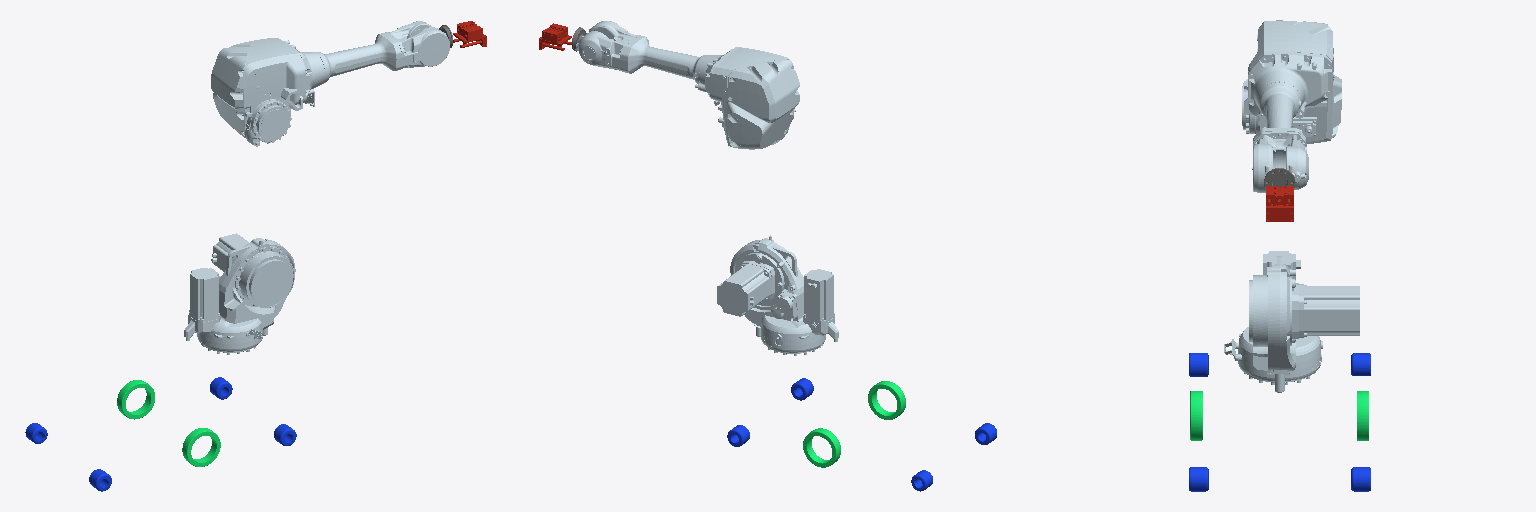
--- What the picture shows (computed from the rendered views, not written in the file) ---
Views: 3 orthographic renders of the robot side by side, from view 1: azimuth 30°, elevation 25°; view 2: azimuth 150°, elevation 25°; view 3: azimuth 270°, elevation 25°.
Robot: mirabb — 20 links, 19 joints (1 revolute, 12 continuous, 3 prismatic, 3 fixed); root link world; default pose: every joint at zero.
Links seen in each view (by area): view 1: link1_1, link3_1, link4_1, mir_left_drive_wheel_1, mir_right_drive_wheel_1, link9_1; view 2: link1_1, link3_1, link4_1, mir_left_drive_wheel_1, mir_right_drive_wheel_1, link9_1; view 3: link1_1, link3_1, link4_1, link9_1, mir_left_drive_wheel_1, mir_right_drive_wheel_1.
Boxes of the visible links, box(x1,y1,x2,y2) form: link1_1: box(184, 233, 295, 354); link3_1: box(211, 38, 324, 146); link4_1: box(316, 21, 449, 83); mir_left_drive_wheel_1: box(182, 428, 220, 466); mir_right_drive_wheel_1: box(117, 380, 154, 419); link9_1: box(453, 21, 486, 47); link1_1: box(717, 235, 838, 355); link3_1: box(695, 47, 799, 149); link4_1: box(576, 21, 707, 84); mir_left_drive_wheel_1: box(868, 381, 905, 419); mir_right_drive_wheel_1: box(803, 428, 840, 467); link9_1: box(539, 23, 571, 50); link1_1: box(1224, 251, 1359, 392); link3_1: box(1242, 20, 1341, 143); link4_1: box(1252, 82, 1308, 192); link9_1: box(1266, 186, 1293, 221); mir_left_drive_wheel_1: box(1190, 391, 1202, 440); mir_right_drive_wheel_1: box(1357, 391, 1368, 440).
Bounding box of the posed robot: 2.46 × 0.729 × 2.04 m (x, y, z).
Meshes: 19 distinct files referenced, 11 mesh visuals loaded (11 binary STL); not drawn: 8 (reference not matched to a file when rendering).

The robot description file, URDF, robot "mirabb":
<?xml version="1.0" ?>
<!-- =================================================================================== -->
<!-- |    This document was autogenerated by xacro from mirabb.xacro                   | -->
<!-- |    EDITING THIS FILE BY HAND IS NOT RECOMMENDED                                 | -->
<!-- =================================================================================== -->
<robot name="mirabb">
  <material name="silver_default">
    <color rgba="0.700 0.700 0.700 1.000"/>
  </material>
  <material name="opaque636363">
    <color rgba="0.25098039215686274 0.25098039215686274 0.25098039215686274 1.0"/>
  </material>
  <material name="opaque25500_1_1">
    <color rgba="0.14901960784313725 0.9607843137254902 0.49019607843137253 1.0"/>
  </material>
  <material name="opaque25500_1">
    <color rgba="0.14901960784313725 0.3254901960784314 0.9607843137254902 1.0"/>
  </material>
  <material name="opaque25500">
    <color rgba="1.0 0.0 0.0 1.0"/>
  </material>
  <material name="powder_coat_rough_grey">
    <color rgba="0.8235294117647058 0.8941176470588236 0.9333333333333333 1.0"/>
  </material>
  <material name="opaque215215215">
    <color rgba="0.8431372549019608 0.8431372549019608 0.8431372549019608 1.0"/>
  </material>
  <material name="opaque128128128">
    <color rgba="0.5019607843137255 0.5019607843137255 0.5019607843137255 1.0"/>
  </material>
  <material name="paint_metallic_blue">
    <color rgba="0.18823529411764706 0.23137254901960785 0.5882352941176471 1.0"/>
  </material>
  <material name="paint_metallic_silver">
    <color rgba="0.984313725490196 0.9803921568627451 0.9607843137254902 1.0"/>
  </material>
  <material name="paint_metallic_red">
    <color rgba="0.7686274509803922 0.20784313725490197 0.15294117647058825 1.0"/>
  </material>
  <material name="generic">
    <color rgba="0.3137254901960784 0.3137254901960784 0.3137254901960784 1.0"/>
  </material>
  <transmission name="joint_Base_LeftWheel_tran">
    <type>transmission_interface/SimpleTransmission</type>
    <joint name="joint_Base_LeftWheel">
      <hardwareInterface>hardware_interface/EffortJointInterface</hardwareInterface>
    </joint>
    <actuator name="joint_Base_LeftWheel_actr">
      <hardwareInterface>hardware_interface/EffortJointInterface</hardwareInterface>
      <mechanicalReduction>1</mechanicalReduction>
    </actuator>
  </transmission>
  <transmission name="joint_Base_RightWheel_tran">
    <type>transmission_interface/SimpleTransmission</type>
    <joint name="joint_Base_RightWheel">
      <hardwareInterface>hardware_interface/EffortJointInterface</hardwareInterface>
    </joint>
    <actuator name="joint_Base_RightWheel_actr">
      <hardwareInterface>hardware_interface/EffortJointInterface</hardwareInterface>
      <mechanicalReduction>1</mechanicalReduction>
    </actuator>
  </transmission>
  <transmission name="joint_Base_rear_right_caster_tran">
    <type>transmission_interface/SimpleTransmission</type>
    <joint name="joint_Base_rear_right_caster">
      <hardwareInterface>hardware_interface/EffortJointInterface</hardwareInterface>
    </joint>
    <actuator name="joint_Base_rear_right_caster_actr">
      <hardwareInterface>hardware_interface/EffortJointInterface</hardwareInterface>
      <mechanicalReduction>1</mechanicalReduction>
    </actuator>
  </transmission>
  <transmission name="joint_Base_rear_left_caster_tran">
    <type>transmission_interface/SimpleTransmission</type>
    <joint name="joint_Base_rear_left_caster">
      <hardwareInterface>hardware_interface/EffortJointInterface</hardwareInterface>
    </joint>
    <actuator name="joint_Base_rear_left_caster_actr">
      <hardwareInterface>hardware_interface/EffortJointInterface</hardwareInterface>
      <mechanicalReduction>1</mechanicalReduction>
    </actuator>
  </transmission>
  <transmission name="joint_Base_front_right_caster_tran">
    <type>transmission_interface/SimpleTransmission</type>
    <joint name="joint_Base_front_right_caster">
      <hardwareInterface>hardware_interface/EffortJointInterface</hardwareInterface>
    </joint>
    <actuator name="joint_Base_front_right_caster_actr">
      <hardwareInterface>hardware_interface/EffortJointInterface</hardwareInterface>
      <mechanicalReduction>1</mechanicalReduction>
    </actuator>
  </transmission>
  <transmission name="joint_Base_front_left_caster_tran">
    <type>transmission_interface/SimpleTransmission</type>
    <joint name="joint_Base_front_left_caster">
      <hardwareInterface>hardware_interface/EffortJointInterface</hardwareInterface>
    </joint>
    <actuator name="joint_Base_front_left_caster_actr">
      <hardwareInterface>hardware_interface/EffortJointInterface</hardwareInterface>
      <mechanicalReduction>1</mechanicalReduction>
    </actuator>
  </transmission>
  <transmission name="joint1_tran">
    <type>transmission_interface/SimpleTransmission</type>
    <joint name="joint1">
      <!-- <hardwareInterface>hardware_interface/EffortJointInterface</hardwareInterface> -->
      <hardwareInterface>hardware_interface/PositionJointInterface</hardwareInterface>
    </joint>
    <actuator name="joint1_actr">
      <!-- <hardwareInterface>hardware_interface/EffortJointInterface</hardwareInterface> -->
      <hardwareInterface>hardware_interface/PositionJointInterface</hardwareInterface>
      <mechanicalReduction>1</mechanicalReduction>
    </actuator>
  </transmission>
  <transmission name="joint2_tran">
    <type>transmission_interface/SimpleTransmission</type>
    <joint name="joint2">
      <!-- <hardwareInterface>hardware_interface/EffortJointInterface</hardwareInterface> -->
      <hardwareInterface>hardware_interface/PositionJointInterface</hardwareInterface>
    </joint>
    <actuator name="joint2_actr">
      <!-- <hardwareInterface>hardware_interface/EffortJointInterface</hardwareInterface> -->
      <hardwareInterface>hardware_interface/PositionJointInterface</hardwareInterface>
      <mechanicalReduction>1</mechanicalReduction>
    </actuator>
  </transmission>
  <transmission name="joint3_tran">
    <type>transmission_interface/SimpleTransmission</type>
    <joint name="joint3">
      <!-- <hardwareInterface>hardware_interface/EffortJointInterface</hardwareInterface> -->
      <hardwareInterface>hardware_interface/PositionJointInterface</hardwareInterface>
    </joint>
    <actuator name="joint3_actr">
      <!-- <hardwareInterface>hardware_interface/EffortJointInterface</hardwareInterface> -->
      <hardwareInterface>hardware_interface/PositionJointInterface</hardwareInterface>
      <mechanicalReduction>1</mechanicalReduction>
    </actuator>
  </transmission>
  <transmission name="joint4_tran">
    <type>transmission_interface/SimpleTransmission</type>
    <joint name="joint4">
      <!-- <hardwareInterface>hardware_interface/EffortJointInterface</hardwareInterface> -->
      <hardwareInterface>hardware_interface/PositionJointInterface</hardwareInterface>
    </joint>
    <actuator name="joint4_actr">
      <!-- <hardwareInterface>hardware_interface/EffortJointInterface</hardwareInterface> -->
      <hardwareInterface>hardware_interface/PositionJointInterface</hardwareInterface>
      <mechanicalReduction>1</mechanicalReduction>
    </actuator>
  </transmission>
  <transmission name="joint5_tran">
    <type>transmission_interface/SimpleTransmission</type>
    <joint name="joint5">
      <!-- <hardwareInterface>hardware_interface/EffortJointInterface</hardwareInterface> -->
      <hardwareInterface>hardware_interface/PositionJointInterface</hardwareInterface>
    </joint>
    <actuator name="joint5_actr">
      <!-- <hardwareInterface>hardware_interface/EffortJointInterface</hardwareInterface> -->
      <hardwareInterface>hardware_interface/PositionJointInterface</hardwareInterface>
      <mechanicalReduction>1</mechanicalReduction>
    </actuator>
  </transmission>
  <transmission name="joint6_tran">
    <type>transmission_interface/SimpleTransmission</type>
    <joint name="joint6">
      <!-- <hardwareInterface>hardware_interface/EffortJointInterface</hardwareInterface> -->
      <hardwareInterface>hardware_interface/PositionJointInterface</hardwareInterface>
    </joint>
    <actuator name="joint6_actr">
      <!-- <hardwareInterface>hardware_interface/EffortJointInterface</hardwareInterface> -->
      <hardwareInterface>hardware_interface/PositionJointInterface</hardwareInterface>
      <mechanicalReduction>1</mechanicalReduction>
    </actuator>
  </transmission>
  <transmission name="joint8_tran">
    <type>transmission_interface/SimpleTransmission</type>
    <joint name="joint8">
      <!-- <hardwareInterface>hardware_interface/EffortJointInterface</hardwareInterface> -->
      <hardwareInterface>hardware_interface/PositionJointInterface</hardwareInterface>
    </joint>
    <actuator name="joint8_actr">
      <!-- <hardwareInterface>hardware_interface/EffortJointInterface</hardwareInterface> -->
      <hardwareInterface>hardware_interface/PositionJointInterface</hardwareInterface>
      <mechanicalReduction>1</mechanicalReduction>
    </actuator>
  </transmission>
  <transmission name="joint9_tran">
    <type>transmission_interface/SimpleTransmission</type>
    <joint name="joint9">
      <!-- <hardwareInterface>hardware_interface/EffortJointInterface</hardwareInterface> -->
      <hardwareInterface>hardware_interface/PositionJointInterface</hardwareInterface>
    </joint>
    <actuator name="joint9_actr">
      <!-- <hardwareInterface>hardware_interface/EffortJointInterface</hardwareInterface> -->
      <hardwareInterface>hardware_interface/PositionJointInterface</hardwareInterface>
      <mechanicalReduction>1</mechanicalReduction>
    </actuator>
  </transmission>
  <transmission name="joint10_tran">
    <type>transmission_interface/SimpleTransmission</type>
    <joint name="joint10">
      <!-- <hardwareInterface>hardware_interface/EffortJointInterface</hardwareInterface> -->
      <hardwareInterface>hardware_interface/PositionJointInterface</hardwareInterface>
    </joint>
    <actuator name="joint10_actr">
      <!-- <hardwareInterface>hardware_interface/EffortJointInterface</hardwareInterface> -->
      <hardwareInterface>hardware_interface/PositionJointInterface</hardwareInterface>
      <mechanicalReduction>1</mechanicalReduction>
    </actuator>
  </transmission>
  <transmission name="joint11_tran">
    <type>transmission_interface/SimpleTransmission</type>
    <joint name="joint11">
      <!-- <hardwareInterface>hardware_interface/EffortJointInterface</hardwareInterface> -->
      <hardwareInterface>hardware_interface/PositionJointInterface</hardwareInterface>
    </joint>
    <actuator name="joint11_actr">
      <!-- <hardwareInterface>hardware_interface/EffortJointInterface</hardwareInterface> -->
      <hardwareInterface>hardware_interface/PositionJointInterface</hardwareInterface>
      <mechanicalReduction>1</mechanicalReduction>
    </actuator>
  </transmission>
  <!-- <gazebo>
  <plugin name="control" filename="libgazebo_ros_control.so"/>
</gazebo> -->
  <gazebo>
    <plugin filename="libgazebo_ros_control.so" name="gazebo_ros_control">
      <robotNamespace>/mirabb</robotNamespace>
      <robotSimType>gazebo_ros_control/DefaultRobotHWSim</robotSimType>
    </plugin>
  </gazebo>
  <gazebo reference="base_link">
    <material>Gazebo/Silver</material>
    <mu1>0.2</mu1>
    <mu2>0.2</mu2>
    <selfCollide>true</selfCollide>
    <gravity>true</gravity>
  </gazebo>
  <gazebo reference="mir_left_drive_wheel_1">
    <material>Gazebo/Silver</material>
    <mu1>0.2</mu1>
    <mu2>0.2</mu2>
    <selfCollide>true</selfCollide>
  </gazebo>
  <gazebo reference="mir_right_drive_wheel_1">
    <material>Gazebo/Silver</material>
    <mu1>0.2</mu1>
    <mu2>0.2</mu2>
    <selfCollide>true</selfCollide>
  </gazebo>
  <gazebo reference="mir_rear_right_caster_1">
    <material>Gazebo/Silver</material>
    <mu1>0.2</mu1>
    <mu2>0.2</mu2>
    <selfCollide>true</selfCollide>
  </gazebo>
  <gazebo reference="mir_rear_left_caster_1">
    <material>Gazebo/Silver</material>
    <mu1>0.2</mu1>
    <mu2>0.2</mu2>
    <selfCollide>true</selfCollide>
  </gazebo>
  <gazebo reference="mir_front_right_caster_1">
    <material>Gazebo/Silver</material>
    <mu1>0.2</mu1>
    <mu2>0.2</mu2>
    <selfCollide>true</selfCollide>
  </gazebo>
  <gazebo reference="mir_front_left_caster_1">
    <material>Gazebo/Silver</material>
    <mu1>0.2</mu1>
    <mu2>0.2</mu2>
    <selfCollide>true</selfCollide>
  </gazebo>
  <gazebo reference="link0_1">
    <material>Gazebo/Silver</material>
    <mu1>0.2</mu1>
    <mu2>0.2</mu2>
    <selfCollide>true</selfCollide>
  </gazebo>
  <gazebo reference="link1_1">
    <material>Gazebo/Silver</material>
    <mu1>0.2</mu1>
    <mu2>0.2</mu2>
    <selfCollide>true</selfCollide>
  </gazebo>
  <gazebo reference="link2_1">
    <material>Gazebo/Silver</material>
    <mu1>0.2</mu1>
    <mu2>0.2</mu2>
    <selfCollide>true</selfCollide>
  </gazebo>
  <gazebo reference="link3_1">
    <material>Gazebo/Silver</material>
    <mu1>0.2</mu1>
    <mu2>0.2</mu2>
    <selfCollide>true</selfCollide>
  </gazebo>
  <gazebo reference="link4_1">
    <material>Gazebo/Silver</material>
    <mu1>0.2</mu1>
    <mu2>0.2</mu2>
    <selfCollide>true</selfCollide>
  </gazebo>
  <gazebo reference="link5_1">
    <material>Gazebo/Silver</material>
    <mu1>0.2</mu1>
    <mu2>0.2</mu2>
    <selfCollide>true</selfCollide>
  </gazebo>
  <gazebo reference="link6_1">
    <material>Gazebo/Silver</material>
    <mu1>0.2</mu1>
    <mu2>0.2</mu2>
    <selfCollide>true</selfCollide>
  </gazebo>
  <gazebo reference="link7_1">
    <material>Gazebo/Silver</material>
    <mu1>0.2</mu1>
    <mu2>0.2</mu2>
    <selfCollide>true</selfCollide>
  </gazebo>
  <gazebo reference="link11_1">
    <material>Gazebo/Silver</material>
    <mu1>0.2</mu1>
    <mu2>0.2</mu2>
    <selfCollide>true</selfCollide>
  </gazebo>
  <gazebo reference="link10_1">
    <material>Gazebo/Silver</material>
    <mu1>0.2</mu1>
    <mu2>0.2</mu2>
    <selfCollide>true</selfCollide>
  </gazebo>
  <gazebo reference="link9_1">
    <material>Gazebo/Silver</material>
    <mu1>0.2</mu1>
    <mu2>0.2</mu2>
    <selfCollide>true</selfCollide>
  </gazebo>
  <gazebo reference="link8_1">
    <material>Gazebo/Silver</material>
    <mu1>0.2</mu1>
    <mu2>0.2</mu2>
    <selfCollide>true</selfCollide>
  </gazebo>
  <link name="base_link">
    <inertial>
      <origin rpy="0 0 0" xyz="-0.14772812309663302 -0.023206697854912604 0.4203334227386186"/>
      <mass value="1000"/>
      <inertia ixx="199.757361" ixy="11.317127" ixz="56.773936" iyy="263.585665" iyz="-1.492251" izz="251.283031"/>
    </inertial>
    <visual>
      <origin rpy="0 0 0" xyz="0 0 0"/>
      <geometry>
        <mesh filename="package://mirabb_description/meshes/base_link.stl" scale="0.001 0.001 0.001"/>
      </geometry>
      <material name="opaque636363"/>
    </visual>
    <collision>
      <origin rpy="0 0 0" xyz="0 0 0"/>
      <geometry>
        <mesh filename="package://mirabb_description/meshes/base_link.stl" scale="0.001 0.001 0.001"/>
      </geometry>
    </collision>
  </link>
  <link name="world"/>
  <joint name="fixed" type="fixed">
    <parent link="world"/>
    <child link="base_link"/>
  </joint>
  <link name="mir_left_drive_wheel_1">
    <inertial>
      <origin rpy="0 0 0" xyz="2.1315413548247345e-07 1.7219884374530814e-06 -6.709368598589727e-06"/>
      <mass value="5.294052840904085"/>
      <inertia ixx="0.021658" ixy="0.0" ixz="-0.0" iyy="0.041149" iyz="1e-06" izz="0.021656"/>
    </inertial>
    <visual>
      <origin rpy="0 0 0" xyz="0.000842 0.331703 -0.102346"/>
      <geometry>
        <mesh filename="package://mirabb_description/meshes/mir_left_drive_wheel_1.stl" scale="0.001 0.001 0.001"/>
      </geometry>
      <material name="opaque25500_1_1"/>
    </visual>
    <collision>
      <origin rpy="0 0 0" xyz="0.000842 0.331703 -0.102346"/>
      <geometry>
        <mesh filename="package://mirabb_description/meshes/mir_left_drive_wheel_1.stl" scale="0.001 0.001 0.001"/>
      </geometry>
    </collision>
  </link>
  <link name="mir_right_drive_wheel_1">
    <inertial>
      <origin rpy="0 0 0" xyz="7.484477992811224e-07 -2.2718773015073523e-06 -6.709368683271988e-06"/>
      <mass value="5.294052840904829"/>
      <inertia ixx="0.021658" ixy="0.0" ixz="0.0" iyy="0.041149" iyz="-1e-06" izz="0.021656"/>
    </inertial>
    <visual>
      <origin rpy="0 0 0" xyz="0.000842 -0.330477 -0.102346"/>
      <geometry>
        <mesh filename="package://mirabb_description/meshes/mir_right_drive_wheel_1.stl" scale="0.001 0.001 0.001"/>
      </geometry>
      <material name="opaque25500_1_1"/>
    </visual>
    <collision>
      <origin rpy="0 0 0" xyz="0.000842 -0.330477 -0.102346"/>
      <geometry>
        <mesh filename="package://mirabb_description/meshes/mir_right_drive_wheel_1.stl" scale="0.001 0.001 0.001"/>
      </geometry>
    </collision>
  </link>
  <link name="mir_rear_right_caster_1">
    <inertial>
      <origin rpy="0 0 0" xyz="4.808006703882484e-07 -2.749445809913098e-07 -2.1737521140735572e-07"/>
      <mass value="2.8340302939762845"/>
      <inertia ixx="0.00334" ixy="-0.0" ixz="-0.0" iyy="0.003822" iyz="-0.0" izz="0.00334"/>
    </inertial>
    <visual>
      <origin rpy="0 0 0" xyz="0.587342 -0.324887 -0.052346"/>
      <geometry>
        <mesh filename="package://mirabb_description/meshes/mir_rear_right_caster_1.stl" scale="0.001 0.001 0.001"/>
      </geometry>
      <material name="opaque25500_1"/>
    </visual>
    <collision>
      <origin rpy="0 0 0" xyz="0.587342 -0.324887 -0.052346"/>
      <geometry>
        <mesh filename="package://mirabb_description/meshes/mir_rear_right_caster_1.stl" scale="0.001 0.001 0.001"/>
      </geometry>
    </collision>
  </link>
  <link name="mir_rear_left_caster_1">
    <inertial>
      <origin rpy="0 0 0" xyz="4.808008184919998e-07 -2.749445659477878e-07 -2.1737514686176462e-07"/>
      <mass value="3.2863508269475776"/>
      <inertia ixx="0.00407" ixy="-0.0" ixz="0.0" iyy="0.004808" iyz="-0.0" izz="0.00407"/>
    </inertial>
    <visual>
      <origin rpy="0 0 0" xyz="0.587342 0.324113 -0.052346"/>
      <geometry>
        <mesh filename="package://mirabb_description/meshes/mir_rear_left_caster_1.stl" scale="0.001 0.001 0.001"/>
      </geometry>
      <material name="opaque25500_1"/>
    </visual>
    <collision>
      <origin rpy="0 0 0" xyz="0.587342 0.324113 -0.052346"/>
      <geometry>
        <mesh filename="package://mirabb_description/meshes/mir_rear_left_caster_1.stl" scale="0.001 0.001 0.001"/>
      </geometry>
    </collision>
  </link>
  <link name="mir_front_right_caster_1">
    <inertial>
      <origin rpy="0 0 0" xyz="-4.941080842812973e-07 -2.749443341332203e-07 -4.5438580856260735e-07"/>
      <mass value="3.286350826947556"/>
      <inertia ixx="0.00407" ixy="-0.0" ixz="-0.0" iyy="0.004808" iyz="-0.0" izz="0.00407"/>
    </inertial>
    <visual>
      <origin rpy="0 0 0" xyz="-0.492668 -0.324887 -0.052365"/>
      <geometry>
        <mesh filename="package://mirabb_description/meshes/mir_front_right_caster_1.stl" scale="0.001 0.001 0.001"/>
      </geometry>
      <material name="opaque25500_1"/>
    </visual>
    <collision>
      <origin rpy="0 0 0" xyz="-0.492668 -0.324887 -0.052365"/>
      <geometry>
        <mesh filename="package://mirabb_description/meshes/mir_front_right_caster_1.stl" scale="0.001 0.001 0.001"/>
      </geometry>
    </collision>
  </link>
  <link name="mir_front_left_caster_1">
    <inertial>
      <origin rpy="0 0 0" xyz="-4.941078886600003e-07 -2.7494431548147347e-07 -4.543858788466637e-07"/>
      <mass value="3.2863508269475816"/>
      <inertia ixx="0.00407" ixy="0.0" ixz="-0.0" iyy="0.004808" iyz="-0.0" izz="0.00407"/>
    </inertial>
    <visual>
      <origin rpy="0 0 0" xyz="-0.492668 0.324113 -0.052365"/>
      <geometry>
        <mesh filename="package://mirabb_description/meshes/mir_front_left_caster_1.stl" scale="0.001 0.001 0.001"/>
      </geometry>
      <material name="opaque25500_1"/>
    </visual>
    <collision>
      <origin rpy="0 0 0" xyz="-0.492668 0.324113 -0.052365"/>
      <geometry>
        <mesh filename="package://mirabb_description/meshes/mir_front_left_caster_1.stl" scale="0.001 0.001 0.001"/>
      </geometry>
    </collision>
  </link>
  <link name="link0_1">
    <inertial>
      <origin rpy="0 0 0" xyz="-0.09119346561175606 0.0003630237210969841 0.07246431742776649"/>
      <mass value="2.37"/>
      <inertia ixx="3.322456" ixy="0.030784" ixz="0.455197" iyy="6.746895" iyz="0.001141" izz="9.112071"/>
    </inertial>
    <visual>
      <origin rpy="0 0 0" xyz="-0.357783 0.000662 -0.322346"/>
      <geometry>
        <mesh filename="package://mirabb_description/meshes/link0_1.stl" scale="0.001 0.001 0.001"/>
      </geometry>
      <material name="powder_coat_rough_grey"/>
    </visual>
    <collision>
      <origin rpy="0 0 0" xyz="-0.357783 0.000662 -0.322346"/>
      <geometry>
        <mesh filename="package://mirabb_description/meshes/link0_1.stl" scale="0.001 0.001 0.001"/>
      </geometry>
    </collision>
  </link>
  <link name="link1_1">
    <inertial>
      <origin rpy="0 0 0" xyz="0.0770381921903589 0.02468988684405638 0.24069822644139682"/>
      <mass value="3.32"/>
      <inertia ixx="8.732818" ixy="-0.760548" ixz="-2.349544" iyy="11.378244" iyz="-0.812185" izz="9.105966"/>
    </inertial>
    <visual>
      <origin rpy="0 0 0" xyz="-0.357783 0.000662 -0.475846"/>
      <geometry>
        <mesh filename="package://mirabb_description/meshes/link1_1.stl" scale="0.001 0.001 0.001"/>
      </geometry>
      <material name="powder_coat_rough_grey"/>
    </visual>
    <collision>
      <origin rpy="0 0 0" xyz="-0.357783 0.000662 -0.475846"/>
      <geometry>
        <mesh filename="package://mirabb_description/meshes/link1_1.stl" scale="0.001 0.001 0.001"/>
      </geometry>
    </collision>
  </link>
  <link name="link2_1">
    <inertial>
      <origin rpy="0 0 0" xyz="8.115108053485809e-05 -0.04807066318993641 0.39677546222613913"/>
      <mass value="2.20"/>
      <inertia ixx="17.032393" ixy="-0.000226" ixz="0.002216" iyy="17.64881" iyz="0.57807" izz="1.263078"/>
    </inertial>
    <visual>
      <origin rpy="0 0 0" xyz="-0.532783 0.123162 -0.811346"/>
      <geometry>
        <mesh filename="package://mirabb_description/meshes/link2_1.stl" scale="0.001 0.001 0.001"/>
      </geometry>
      <material name="powder_coat_rough_grey"/>
    </visual>
    <collision>
      <origin rpy="0 0 0" xyz="-0.532783 0.123162 -0.811346"/>
      <geometry>
        <mesh filename="package://mirabb_description/meshes/link2_1.stl" scale="0.001 0.001 0.001"/>
      </geometry>
    </collision>
  </link>
  <link name="link3_1">
    <inertial>
      <origin rpy="0 0 0" xyz="0.04071241501864575 0.19846588331938803 0.11876174508797432"/>
      <mass value="4.00"/>
      <inertia ixx="8.893944" ixy="0.577245" ixz="-0.921475" iyy="10.887964" iyz="-0.110791" izz="8.946809"/>
    </inertial>
    <visual>
      <origin rpy="0 0 0" xyz="-0.532783 0.149862 -1.711346"/>
      <geometry>
        <mesh filename="package://mirabb_description/meshes/link3_1.stl" scale="0.001 0.001 0.001"/>
      </geometry>
      <material name="powder_coat_rough_grey"/>
    </visual>
    <collision>
      <origin rpy="0 0 0" xyz="-0.532783 0.149862 -1.711346"/>
      <geometry>
        <mesh filename="package://mirabb_description/meshes/link3_1.stl" scale="0.001 0.001 0.001"/>
      </geometry>
    </collision>
  </link>
  <link name="link4_1">
    <inertial>
      <origin rpy="0 0 0" xyz="0.3931328503470747 -0.001975761568746799 -0.002846156235639885"/>
      <mass value="0.87"/>
      <inertia ixx="0.41803" ixy="0.044332" ixz="0.018011" iyy="3.624483" iyz="0.000227" izz="3.763004"/>
    </inertial>
    <visual>
      <origin rpy="0 0 0" xyz="-0.872883 0.000662 -1.886346"/>
      <geometry>
        <mesh filename="package://mirabb_description/meshes/link4_1.stl" scale="0.001 0.001 0.001"/>
      </geometry>
      <material name="powder_coat_rough_grey"/>
    </visual>
    <collision>
      <origin rpy="0 0 0" xyz="-0.872883 0.000662 -1.886346"/>
      <geometry>
        <mesh filename="package://mirabb_description/meshes/link4_1.stl" scale="0.001 0.001 0.001"/>
      </geometry>
    </collision>
  </link>
  <link name="link5_1">
    <inertial>
      <origin rpy="0 0 0" xyz="-0.001050837673909566 -0.06745178444475677 0.000400066383309694"/>
      <mass value="0.11"/>
      <inertia ixx="0.023766" ixy="-6e-06" ixz="-0.000134" iyy="0.024654" iyz="-4e-05" izz="0.026173"/>
    </inertial>
    <visual>
      <origin rpy="0 0 0" xyz="-1.492783 -0.063338 -1.886346"/>
      <geometry>
        <mesh filename="package://mirabb_description/meshes/link5_1.stl" scale="0.001 0.001 0.001"/>
      </geometry>
      <material name="opaque215215215"/>
    </visual>
    <collision>
      <origin rpy="0 0 0" xyz="-1.492783 -0.063338 -1.886346"/>
      <geometry>
        <mesh filename="package://mirabb_description/meshes/link5_1.stl" scale="0.001 0.001 0.001"/>
      </geometry>
    </collision>
  </link>
  <link name="link6_1">
    <inertial>
      <origin rpy="0 0 0" xyz="0.04834495659572857 -0.0002895257483309458 0.00013833881264391223"/>
      <mass value="0.2088759832475839"/>
      <inertia ixx="0.002956" ixy="6e-06" ixz="-2e-06" iyy="0.002242" iyz="-2.1e-05" izz="0.002257"/>
    </inertial>
    <visual>
      <origin rpy="0 0 0" xyz="-1.557783 0.000662 -1.886346"/>
      <geometry>
        <mesh filename="package://mirabb_description/meshes/link6_1.stl" scale="0.001 0.001 0.001"/>
      </geometry>
      <material name="opaque128128128"/>
    </visual>
    <collision>
      <origin rpy="0 0 0" xyz="-1.557783 0.000662 -1.886346"/>
      <geometry>
        <mesh filename="package://mirabb_description/meshes/link6_1.stl" scale="0.001 0.001 0.001"/>
      </geometry>
    </collision>
  </link>
  <link name="link7_1">
    <inertial>
      <origin rpy="0 0 0" xyz="0.09435402654960545 -0.024443476502948997 -0.1809282457600363"/>
      <mass value="0.18"/>
      <inertia ixx="0.453826" ixy="-0.000281" ixz="0.036009" iyy="0.490217" iyz="0.009786" izz="0.136509"/>
    </inertial>
    <visual>
      <origin rpy="0 0 0" xyz="-1.627783 -0.024338 -1.929647"/>
      <geometry>
        <mesh filename="package://mirabb_description/meshes/link7_1.stl" scale="0.001 0.001 0.001"/>
      </geometry>
      <material name="paint_metallic_blue"/>
    </visual>
    <collision>
      <origin rpy="0 0 0" xyz="-1.627783 -0.024338 -1.929647"/>
      <geometry>
        <mesh filename="package://mirabb_description/meshes/link7_1.stl" scale="0.001 0.001 0.001"/>
      </geometry>
    </collision>
  </link>
  <link name="link11_1">
    <inertial>
      <origin rpy="0 0 0" xyz="0.004010304521571584 0.07995109560914467 -0.13300869834630413"/>
      <mass value="0.11"/>
      <inertia ixx="0.089057" ixy="-2.8e-05" ixz="0.002048" iyy="0.072156" iyz="0.0" izz="0.030313"/>
    </inertial>
    <visual>
      <origin rpy="0 0 0" xyz="-1.847783 0.080662 -1.750846"/>
      <geometry>
        <mesh filename="package://mirabb_description/meshes/link11_1.stl" scale="0.001 0.001 0.001"/>
      </geometry>
      <material name="paint_metallic_silver"/>
    </visual>
    <collision>
      <origin rpy="0 0 0" xyz="-1.847783 0.080662 -1.750846"/>
      <geometry>
        <mesh filename="package://mirabb_description/meshes/link11_1.stl" scale="0.001 0.001 0.001"/>
      </geometry>
    </collision>
  </link>
  <link name="link10_1">
    <inertial>
      <origin rpy="0 0 0" xyz="0.06094357946520934 3.5250784968430225e-08 -0.022431829490297206"/>
      <mass value="0.27783433343628725"/>
      <inertia ixx="0.022484" ixy="0.0" ixz="0.004273" iyy="0.019086" iyz="-0.0" izz="0.023473"/>
    </inertial>
    <visual>
      <origin rpy="0 0 0" xyz="-1.770283 0.000662 -1.633846"/>
      <geometry>
        <mesh filename="package://mirabb_description/meshes/link10_1.stl" scale="0.001 0.001 0.001"/>
      </geometry>
      <material name="generic"/>
    </visual>
    <collision>
      <origin rpy="0 0 0" xyz="-1.770283 0.000662 -1.633846"/>
      <geometry>
        <mesh filename="package://mirabb_description/meshes/link10_1.stl" scale="0.001 0.001 0.001"/>
      </geometry>
    </collision>
  </link>
  <link name="link9_1">
    <inertial>
      <origin rpy="0 0 0" xyz="-0.038754353853061474 -0.00041457716043523976 0.037254020568219914"/>
      <mass value="0.51319675889827"/>
      <inertia ixx="0.009503" ixy="-1.3e-05" ixz="0.001465" iyy="0.01009" iyz="5.5e-05" izz="0.01215"/>
    </inertial>
    <visual>
      <origin rpy="0 0 0" xyz="-1.805783 7.2e-05 -1.830846"/>
      <geometry>
        <mesh filename="package://mirabb_description/meshes/link9_1.stl" scale="0.001 0.001 0.001"/>
      </geometry>
      <material name="paint_metallic_red"/>
    </visual>
    <collision>
      <origin rpy="0 0 0" xyz="-1.805783 7.2e-05 -1.830846"/>
      <geometry>
        <mesh filename="package://mirabb_description/meshes/link9_1.stl" scale="0.001 0.001 0.001"/>
      </geometry>
    </collision>
  </link>
  <link name="link8_1">
    <inertial>
      <origin rpy="0 0 0" xyz="0.025113317898471932 2.9552189966326162e-05 -0.0002673043609695558"/>
      <mass value="0.70679302710691369"/>
      <inertia ixx="0.037858" ixy="2e-06" ixz="-2.1e-05" iyy="0.021317" iyz="-1e-05" izz="0.028823"/>
    </inertial>
    <visual>
      <origin rpy="0 0 0" xyz="-1.803783 0.000662 -1.888846"/>
      <geometry>
        <mesh filename="package://mirabb_description/meshes/link8_1.stl" scale="0.001 0.001 0.001"/>
      </geometry>
      <material name="paint_metallic_silver"/>
    </visual>
    <collision>
      <origin rpy="0 0 0" xyz="-1.803783 0.000662 -1.888846"/>
      <geometry>
        <mesh filename="package://mirabb_description/meshes/link8_1.stl" scale="0.001 0.001 0.001"/>
      </geometry>
    </collision>
  </link>
  <!-- AMR Joints -->
  <joint name="joint_Base_LeftWheel" type="continuous">
    <origin rpy="0 0 0" xyz="-0.000842 -0.331703 0.102346"/>
    <parent link="base_link"/>
    <child link="mir_left_drive_wheel_1"/>
    <axis xyz="-0.0 1.0 -0.0"/>
  </joint>
  <joint name="joint_Base_RightWheel" type="continuous">
    <origin rpy="0 0 0" xyz="-0.000842 0.330477 0.102346"/>
    <parent link="base_link"/>
    <child link="mir_right_drive_wheel_1"/>
    <axis xyz="-0.0 1.0 -0.0"/>
  </joint>
  <joint name="joint_Base_rear_right_caster" type="continuous">
    <origin rpy="0 0 0" xyz="-0.587342 0.324887 0.052346"/>
    <parent link="base_link"/>
    <child link="mir_rear_right_caster_1"/>
    <axis xyz="-0.0 1.0 -0.0"/>
  </joint>
  <joint name="joint_Base_rear_left_caster" type="continuous">
    <origin rpy="0 0 0" xyz="-0.587342 -0.324113 0.052346"/>
    <parent link="base_link"/>
    <child link="mir_rear_left_caster_1"/>
    <axis xyz="-0.0 1.0 -0.0"/>
  </joint>
  <joint name="joint_Base_front_right_caster" type="continuous">
    <origin rpy="0 0 0" xyz="0.492668 0.324887 0.052365"/>
    <parent link="base_link"/>
    <child link="mir_front_right_caster_1"/>
    <axis xyz="-0.0 1.0 -0.0"/>
  </joint>
  <joint name="joint_Base_front_left_caster" type="continuous">
    <origin rpy="0 0 0" xyz="0.492668 -0.324113 0.052365"/>
    <parent link="base_link"/>
    <child link="mir_front_left_caster_1"/>
    <axis xyz="-0.0 1.0 -0.0"/>
  </joint>
  <!-- ============================================================ -->
  <!-- Robot arm Joints  -->
  <joint name="joint0" type="fixed">
    <origin rpy="0 0 0" xyz="0.357783 -0.000662 0.322346"/>
    <parent link="base_link"/>
    <child link="link0_1"/>
  </joint>
  <joint name="joint1" type="continuous">
    <origin rpy="0 0 0" xyz="0.0 0.0 0.1535"/>
    <parent link="link0_1"/>
    <child link="link1_1"/>
    <axis xyz="0.0 0.0 1.0"/>
  </joint>
  <joint name="joint2" type="continuous">
    <origin rpy="0 0 0" xyz="0.175 -0.1225 0.3355"/>
    <parent link="link1_1"/>
    <child link="link2_1"/>
    <axis xyz="0.0 -1.0 0.0"/>
  </joint>
  <joint name="joint3" type="continuous">
    <origin rpy="0 0 0" xyz="0.0 -0.0267 0.9"/>
    <parent link="link2_1"/>
    <child link="link3_1"/>
    <axis xyz="-0.0 1.0 -0.0"/>
  </joint>
  <joint name="joint4" type="continuous">
    <origin rpy="0 0 0" xyz="0.3401 0.1492 0.175"/>
    <parent link="link3_1"/>
    <child link="link4_1"/>
    <axis xyz="1.0 0.0 -0.0"/>
  </joint>
  <joint name="joint5" type="continuous">
    <origin rpy="0 0 0" xyz="0.6199 0.064 0.0"/>
    <parent link="link4_1"/>
    <child link="link5_1"/>
    <axis xyz="0.0 -1.0 0.0"/>
  </joint>
  <joint name="joint6" type="continuous">
    <origin rpy="0 0 0" xyz="0.065 -0.064 0.0"/>
    <parent link="link5_1"/>
    <child link="link6_1"/>
    <axis xyz="1.0 0.0 -0.0"/>
  </joint>
  <!-- ============================================================ -->
  <!-- EOAT Joints -->
  <joint name="joint7" type="fixed">
    <origin rpy="0 0 0" xyz="0.07 0.025 0.043301"/>
    <parent link="link6_1"/>
    <child link="link7_1"/>
  </joint>
  <joint name="joint8" type="revolute">
    <!-- <joint name="joint8" type="fixed"> -->
    <origin rpy="0 0 0" xyz="0.22 -0.105 -0.178801"/>
    <parent link="link7_1"/>
    <child link="link11_1"/>
    <axis xyz="-0.0 1.0 -0.0"/>
    <limit effort="10" lower="-1.5708" upper="0.0" velocity="10"/>
  </joint>
  <joint name="joint9" type="prismatic">
    <!-- <joint name="joint9" type="fixed"> -->
    <origin rpy="0 0 0" xyz="-0.0775 0.08 -0.117"/>
    <parent link="link11_1"/>
    <child link="link10_1"/>
    <axis xyz="-1.0 -0.0 0.0"/>
    <limit effort="10" lower="-0.0" upper="0.07" velocity="10"/>
  </joint>
  <joint name="joint10" type="prismatic">
    <!-- <joint name="joint10" type="fixed"> -->
    <origin rpy="0 0 0" xyz="0.178 -0.02441 -0.098801"/>
    <parent link="link7_1"/>
    <child link="link9_1"/>
    <axis xyz="1.0 0.0 -0.0"/>
    <limit effort="10" lower="0.0" upper="0.07" velocity="10"/>
  </joint>
  <joint name="joint11" type="prismatic">
    <!-- <joint name="joint11" type="fixed"> -->
    <origin rpy="0 0 0" xyz="-0.002 -0.00059 0.058"/>
    <parent link="link9_1"/>
    <child link="link8_1"/>
    <axis xyz="1.0 0.0 -0.0"/>
    <limit effort="10" lower="0.0" upper="0.07" velocity="10"/>
  </joint>
  <!-- ============================================================ -->
</robot>
